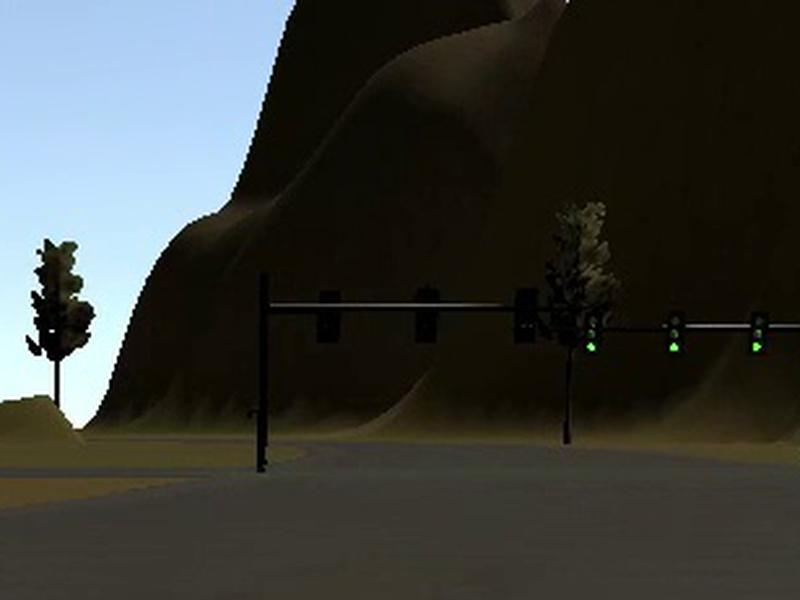Green: (749, 312, 767, 355), (666, 312, 684, 353), (585, 312, 602, 353)
